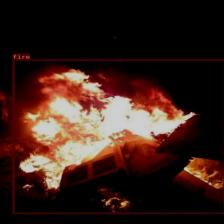fire: (12, 58, 224, 214)
